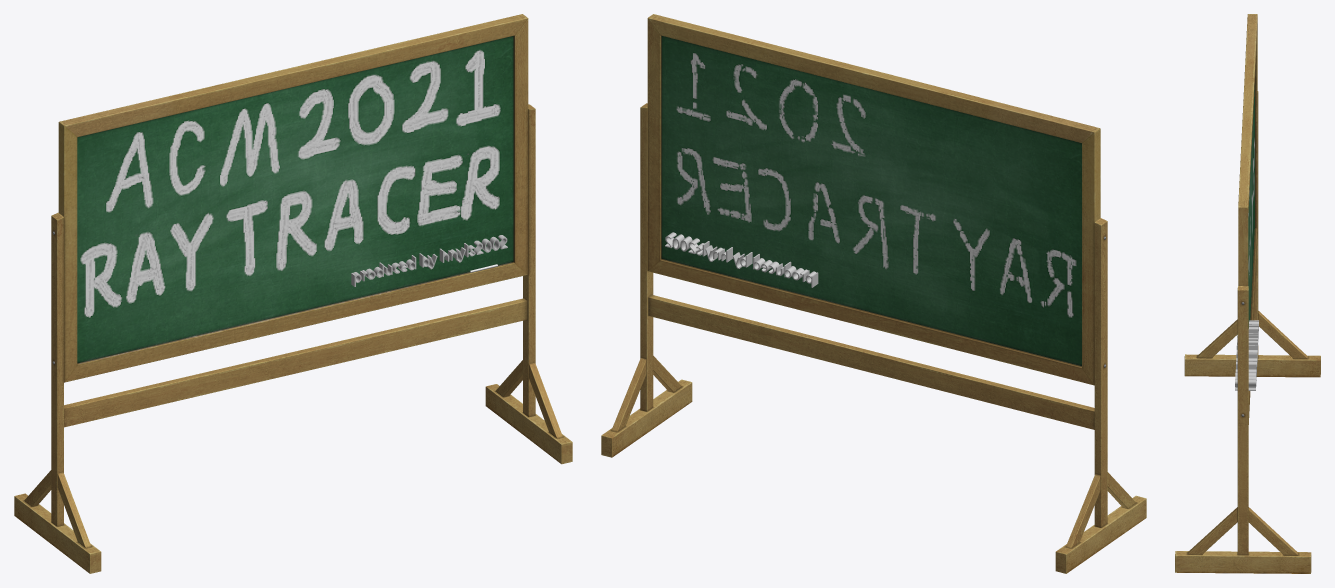
Rendered from blackboard.obj.
The picture shows the model from 3 angles, left to right: view 1: azimuth 30°, elevation 25°; view 2: azimuth 150°, elevation 25°; view 3: azimuth 270°, elevation 25°; orthographic projection. The views are drawn at different scales.
Visible parts, largest first — view 1: node_id62_mesh_id63, mesh_id79; view 2: node_id62_mesh_id63, mesh_id79; view 3: node_id62_mesh_id63, mesh_id79.
Boxes of the visible parts, x1=… form: node_id62_mesh_id63: x1=14, y1=14, x2=572, y2=573; mesh_id79: x1=351, y1=235, x2=507, y2=286; node_id62_mesh_id63: x1=601, y1=14, x2=1146, y2=573; mesh_id79: x1=665, y1=232, x2=818, y2=287; node_id62_mesh_id63: x1=1175, y1=14, x2=1320, y2=573; mesh_id79: x1=1235, y1=320, x2=1258, y2=390.
Bounding box in the file's own units: 0.5149 × 0.4295 × 0.1567.
